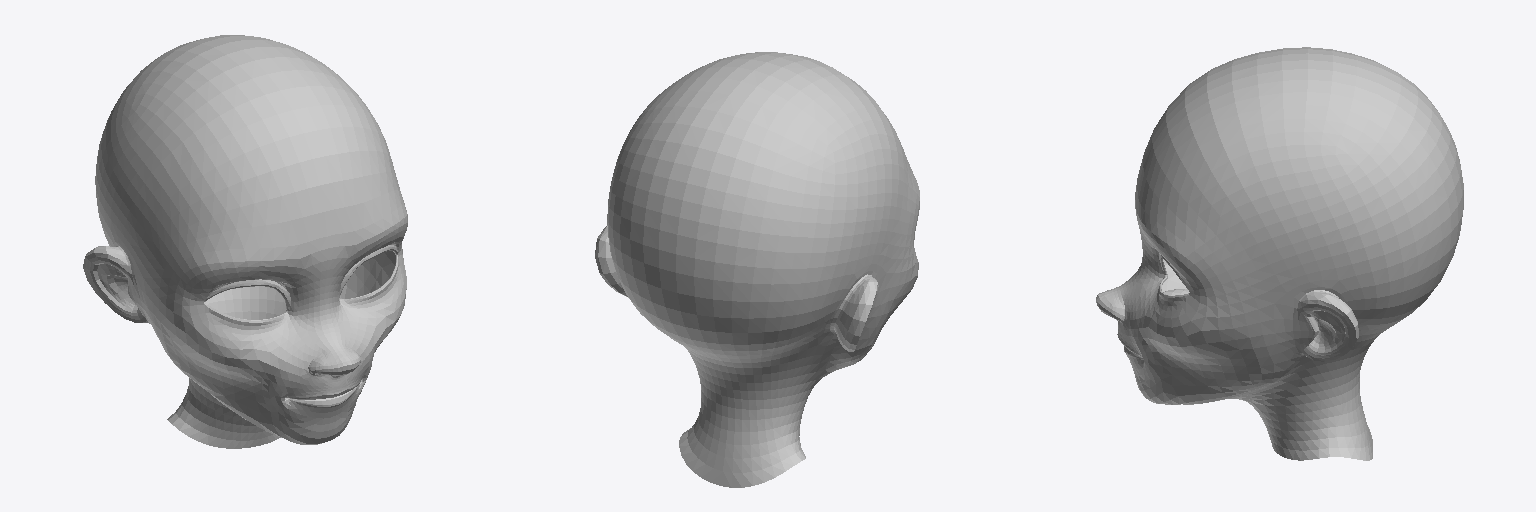
Rendered from suck.obj.
3 renders of one model, left to right at view 1: azimuth 30°, elevation 25°; view 2: azimuth 150°, elevation 25°; view 3: azimuth 270°, elevation 25°, orthographic.
Parts seen in each view (by area): view 1: neutral_Mesh; view 2: neutral_Mesh; view 3: neutral_Mesh.
Part boxes in pixels (bbox=[...]): neutral_Mesh: bbox=[83, 35, 407, 448]; neutral_Mesh: bbox=[595, 52, 919, 487]; neutral_Mesh: bbox=[1096, 47, 1463, 460].
Bounding box in the file's own units: 23.75 × 32.31 × 27.53.